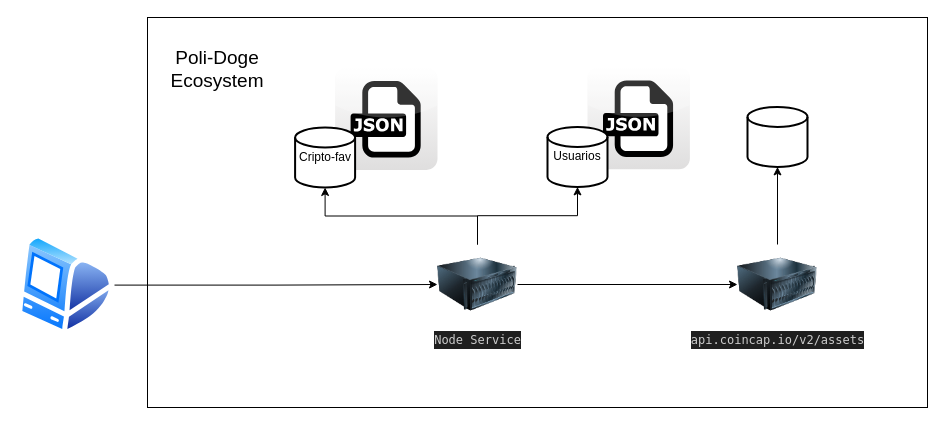
Image size: 945x425. Some labels were removed from this diagram. Here are the shapes that lost their labels. From the top down, the centre of each, then its label:
At (x=777, y=136): "Criptos".
At (x=65, y=284): "Cliente".
